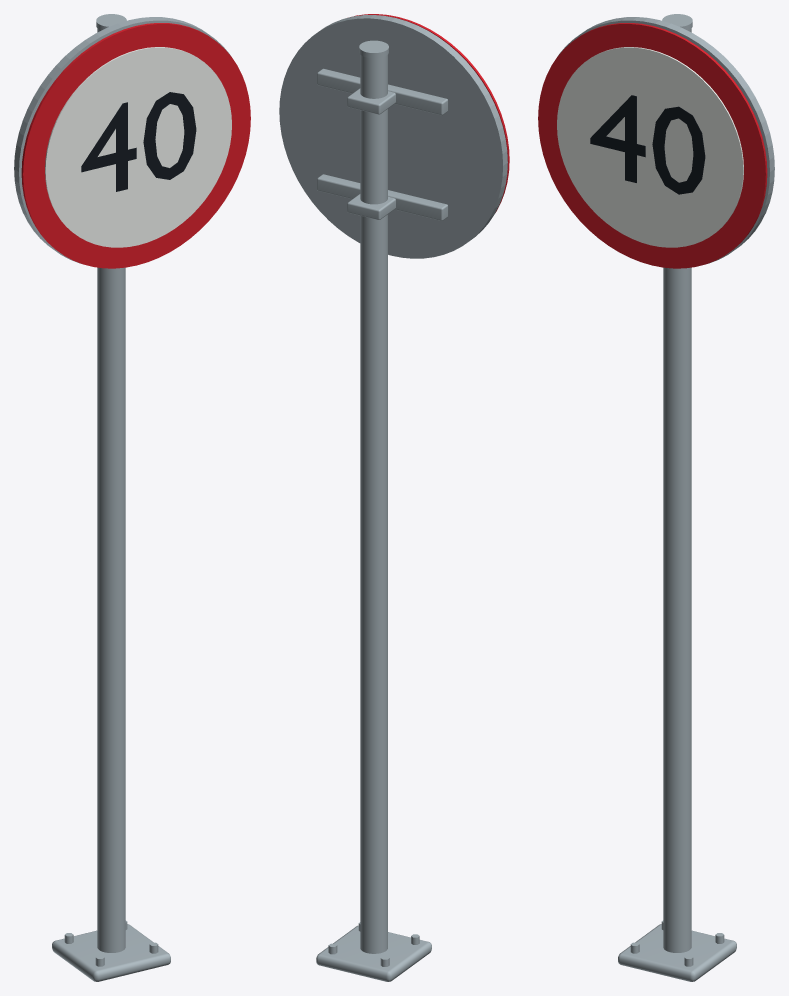
File: DS_Sign_Speed40.glb
3 views of the same model, side by side, from view 1: azimuth 30°, elevation 25°; view 2: azimuth 150°, elevation 25°; view 3: azimuth 330°, elevation 25° (orthographic). The views are drawn at different scales.
Parts seen in each view (by area): view 1: Face_Field.004, Post.004, Face_Border.004, Legend_40, BasePlate.004, Plate_Back.004; view 2: Plate_Back.004, Post.004, BasePlate.004, RearRail.009, RearRail.008, PostClamp.009, PostClamp.008, Face_Border.004; view 3: Face_Field.004, Post.004, Face_Border.004, Legend_40, BasePlate.004, Plate_Back.004.
Part boxes in pixels (left/top/right/bottom): Face_Field.004: left=45, top=47, right=231, bottom=247; Post.004: left=97, top=28, right=125, bottom=952; Face_Border.004: left=21, top=23, right=250, bottom=268; Legend_40: left=81, top=92, right=196, bottom=191; BasePlate.004: left=52, top=924, right=170, bottom=981; Plate_Back.004: left=14, top=17, right=230, bottom=263; Plate_Back.004: left=279, top=15, right=507, bottom=258; Post.004: left=360, top=55, right=387, bottom=953; BasePlate.004: left=316, top=925, right=431, bottom=981; RearRail.009: left=317, top=68, right=448, bottom=115; RearRail.008: left=317, top=174, right=448, bottom=220; PostClamp.009: left=347, top=88, right=395, bottom=114; PostClamp.008: left=347, top=194, right=395, bottom=219; Face_Border.004: left=354, top=14, right=509, bottom=212; Face_Field.004: left=557, top=47, right=743, bottom=247; Post.004: left=663, top=28, right=691, bottom=952; Face_Border.004: left=538, top=23, right=767, bottom=268; Legend_40: left=590, top=95, right=705, bottom=194; BasePlate.004: left=618, top=924, right=736, bottom=981; Plate_Back.004: left=558, top=17, right=774, bottom=263.
Bounding box in the file's own units: 0.71 × 2.81 × 0.2727.
